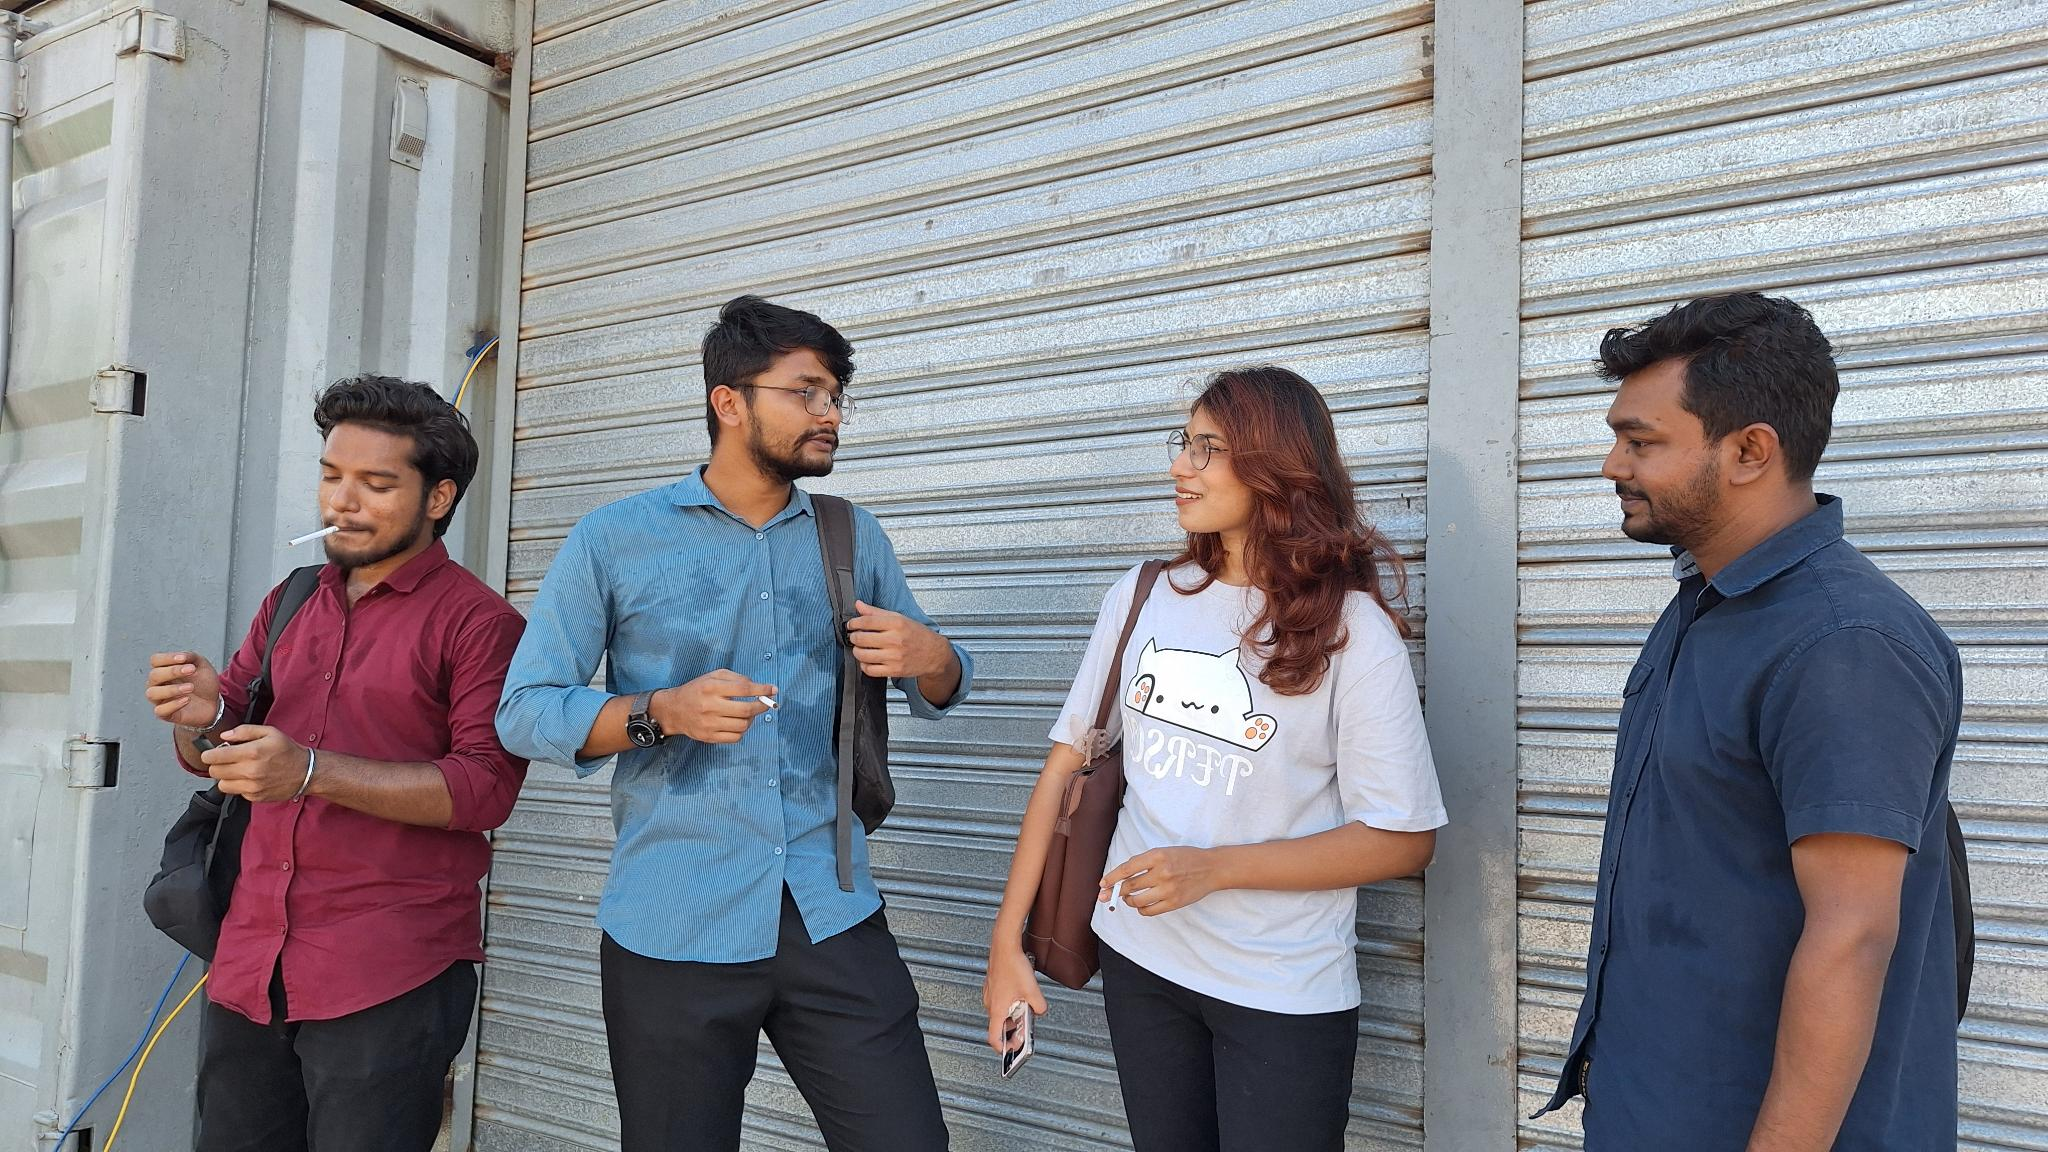cigarette: (286, 522, 342, 550), (1106, 878, 1124, 917), (754, 693, 781, 712)
nonSmoker: (1529, 287, 1978, 1152)
smoker: (495, 298, 976, 1152), (985, 367, 1447, 1152), (146, 377, 532, 1152)
